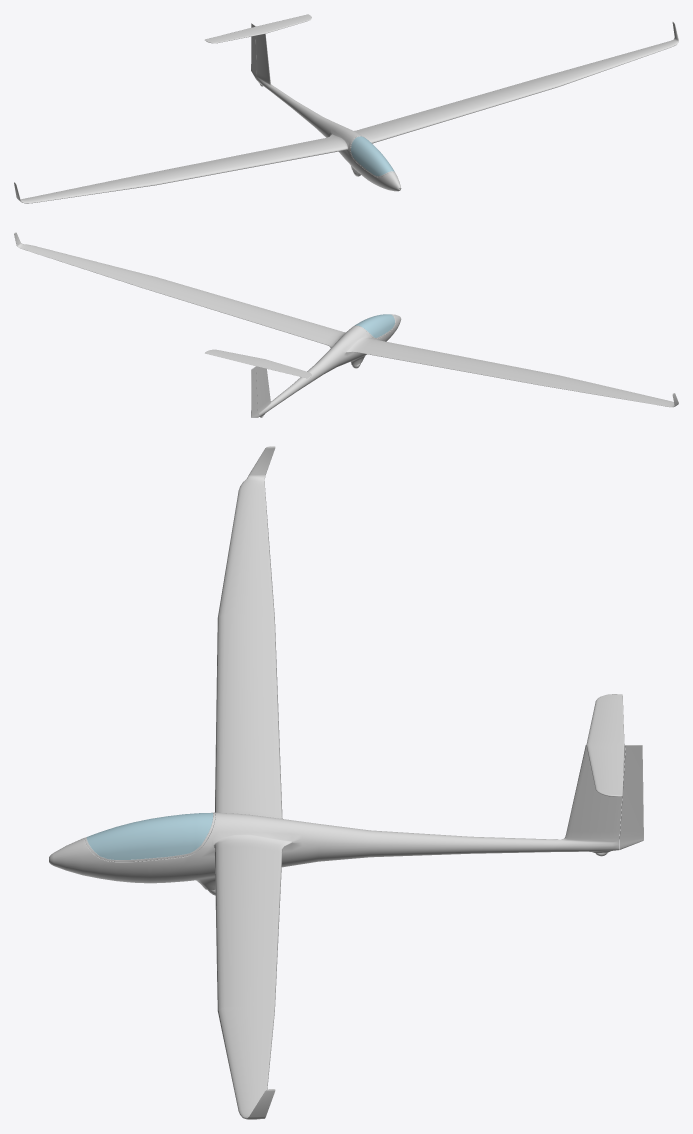
The model's file is glider.glb.
3 renders of one model, top to bottom at view 1: azimuth 30°, elevation 25°; view 2: azimuth 150°, elevation 25°; view 3: azimuth 270°, elevation 25°, orthographic. The views are drawn at different scales.
Parts seen in each view (by area): view 1: GLIDER, GLASS; view 2: GLIDER, GLASS; view 3: GLIDER, GLASS.
Boxes of the visible parts, <box> form: GLIDER: <box>14,14,678,203</box>; GLASS: <box>351,136,394,176</box>; GLIDER: <box>14,232,678,417</box>; GLASS: <box>354,314,394,337</box>; GLIDER: <box>49,446,643,1119</box>; GLASS: <box>86,812,213,859</box>.
Bounding box in the file's own units: 15.18 × 1.68 × 5.93.
